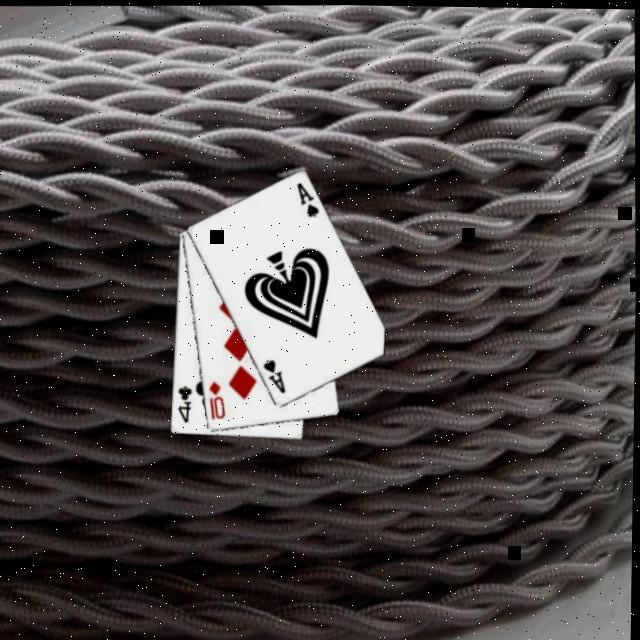10D: (208, 376, 232, 419)
4C: (176, 381, 198, 424)
AS: (295, 177, 324, 218), (262, 356, 290, 394)
